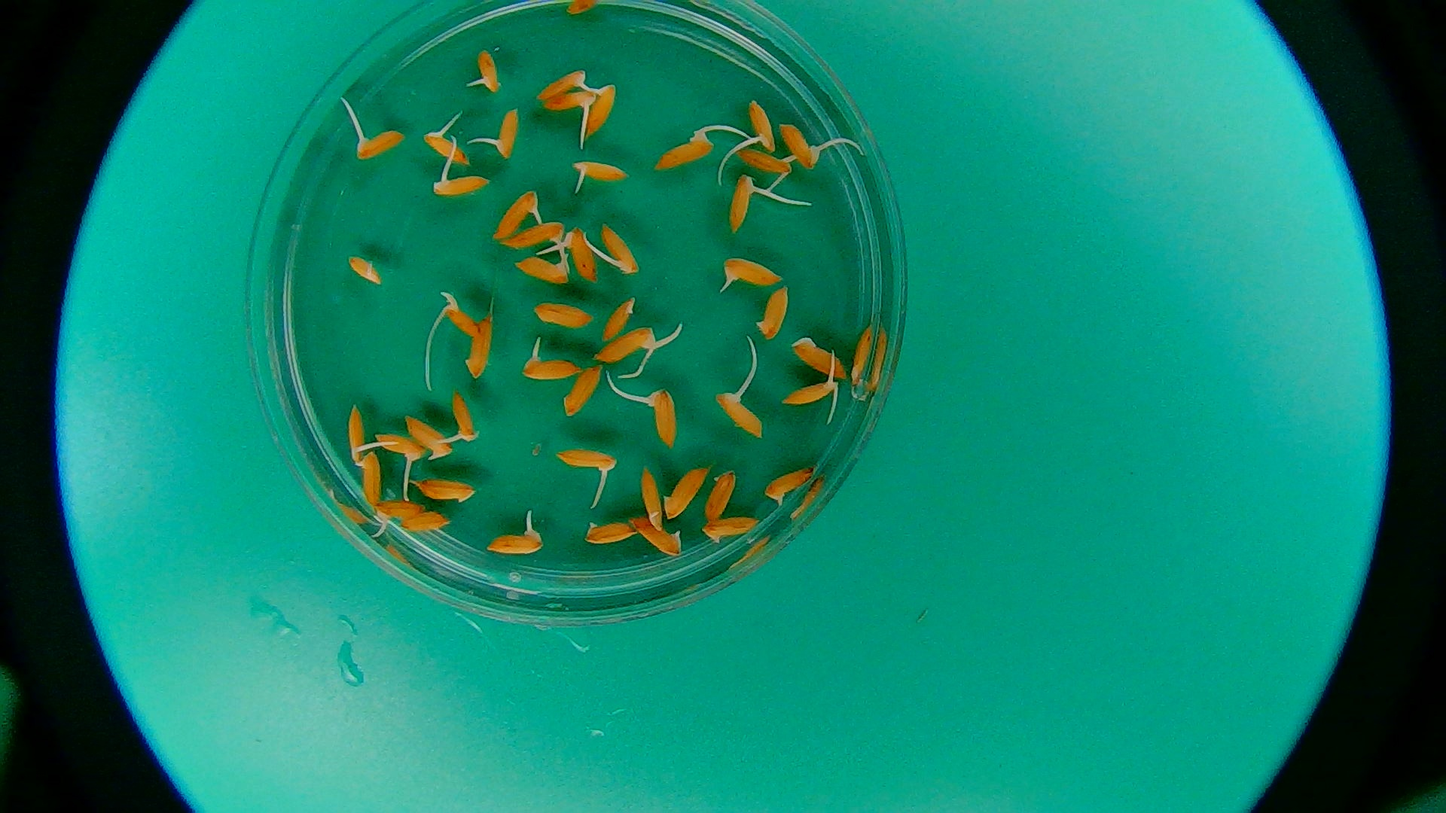no: (623, 513, 683, 559), (558, 362, 606, 419), (663, 463, 709, 522), (462, 317, 499, 379), (762, 469, 815, 510), (796, 336, 844, 379), (703, 470, 738, 523), (531, 300, 592, 330), (701, 516, 764, 545), (636, 470, 664, 535), (755, 286, 788, 340), (412, 477, 483, 502), (343, 249, 388, 288), (850, 323, 877, 385), (601, 295, 637, 340), (355, 449, 382, 507), (582, 524, 638, 548), (399, 512, 451, 534), (563, 1, 607, 15)
yes: (548, 224, 601, 287), (490, 187, 540, 242), (717, 387, 765, 439), (651, 132, 713, 172), (592, 326, 654, 364), (600, 221, 642, 276), (404, 412, 452, 460), (721, 255, 784, 291), (536, 63, 594, 101), (779, 120, 819, 175), (509, 253, 571, 287), (647, 386, 682, 443), (740, 146, 797, 180), (498, 221, 566, 249), (346, 395, 373, 464), (520, 352, 585, 380), (586, 82, 616, 142), (489, 107, 520, 165), (730, 172, 759, 233), (484, 524, 541, 555), (445, 391, 480, 441), (569, 155, 628, 184), (561, 449, 619, 478), (366, 501, 428, 528), (352, 128, 402, 161), (373, 434, 428, 464), (426, 126, 468, 165), (432, 172, 493, 198), (782, 379, 838, 407), (538, 87, 600, 112), (437, 303, 479, 339), (749, 101, 778, 153), (474, 49, 503, 94)
